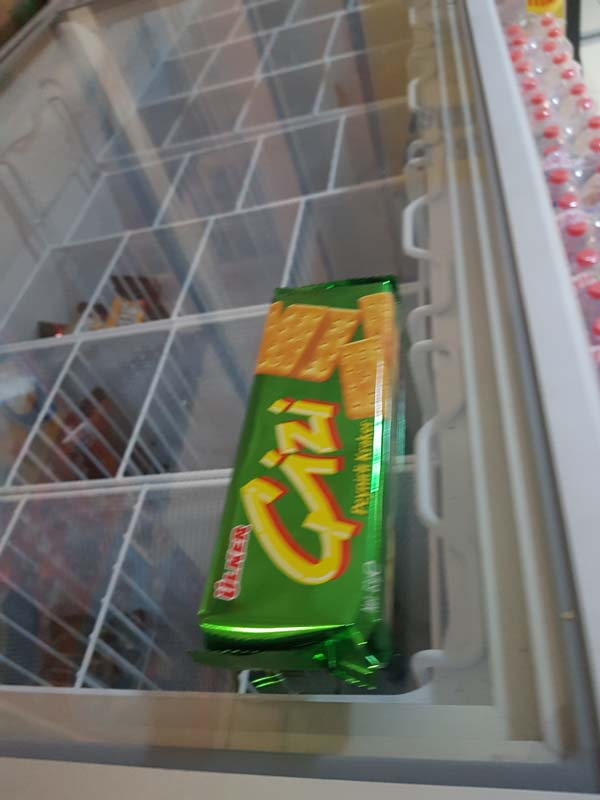cizi: (181, 270, 414, 690)
